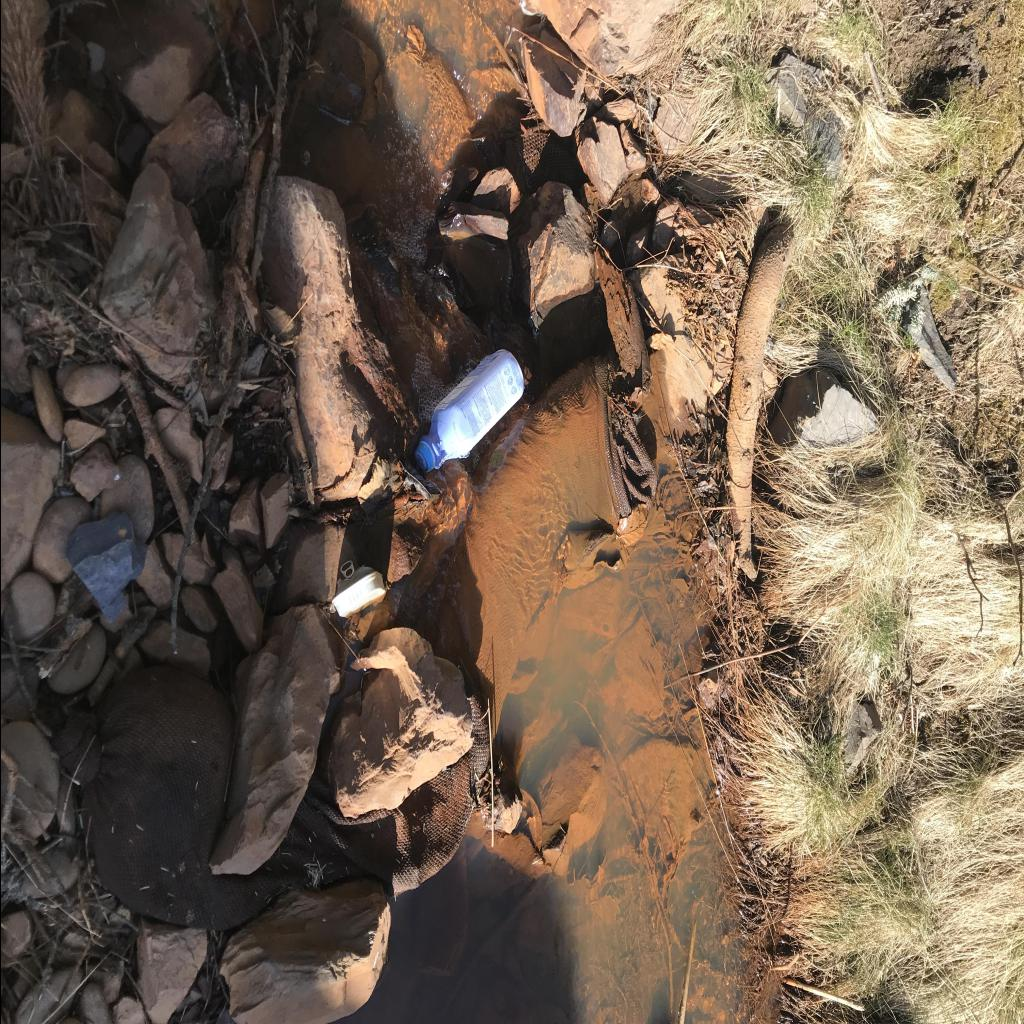Plastic bottle cap: (412, 443, 432, 472)
Pop tab: (340, 560, 354, 578)
